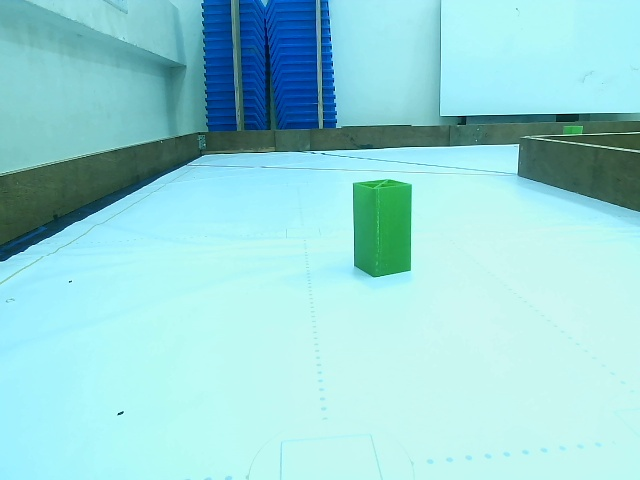green: (353, 182, 411, 273)
